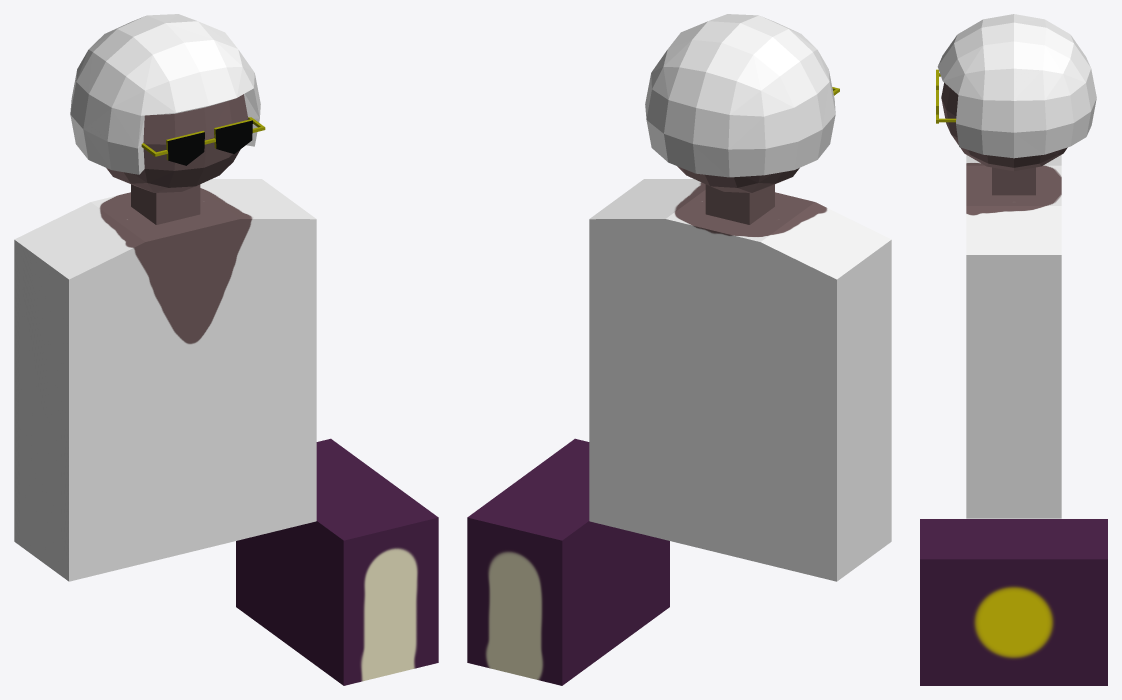
The model's file is Matthias.obj.
3 views of the same model, side by side, from view 1: azimuth 30°, elevation 25°; view 2: azimuth 150°, elevation 25°; view 3: azimuth 270°, elevation 25° (orthographic). The views are drawn at different scales.
Visible parts, largest first — view 1: Cube; view 2: Cube; view 3: Cube.
Part boxes in pixels (x1=…): Cube: x1=14, y1=14, x2=438, y2=685; Cube: x1=467, y1=14, x2=891, y2=685; Cube: x1=920, y1=14, x2=1107, y2=685.
Bounding box in the file's own units: 7.23 × 13.17 × 3.93.
